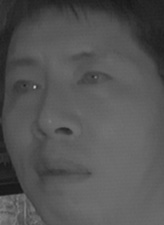eye: (75, 66, 114, 91), (9, 74, 42, 99)
mouth: (34, 155, 91, 193)
